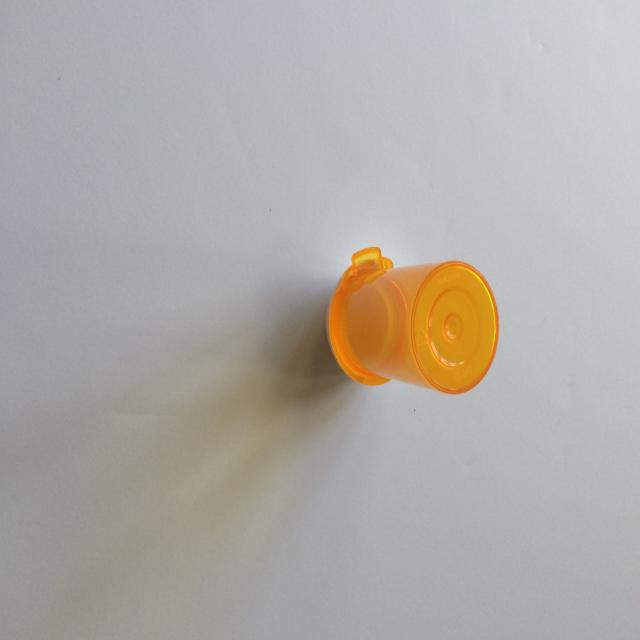plastic: (326, 244, 500, 394)
